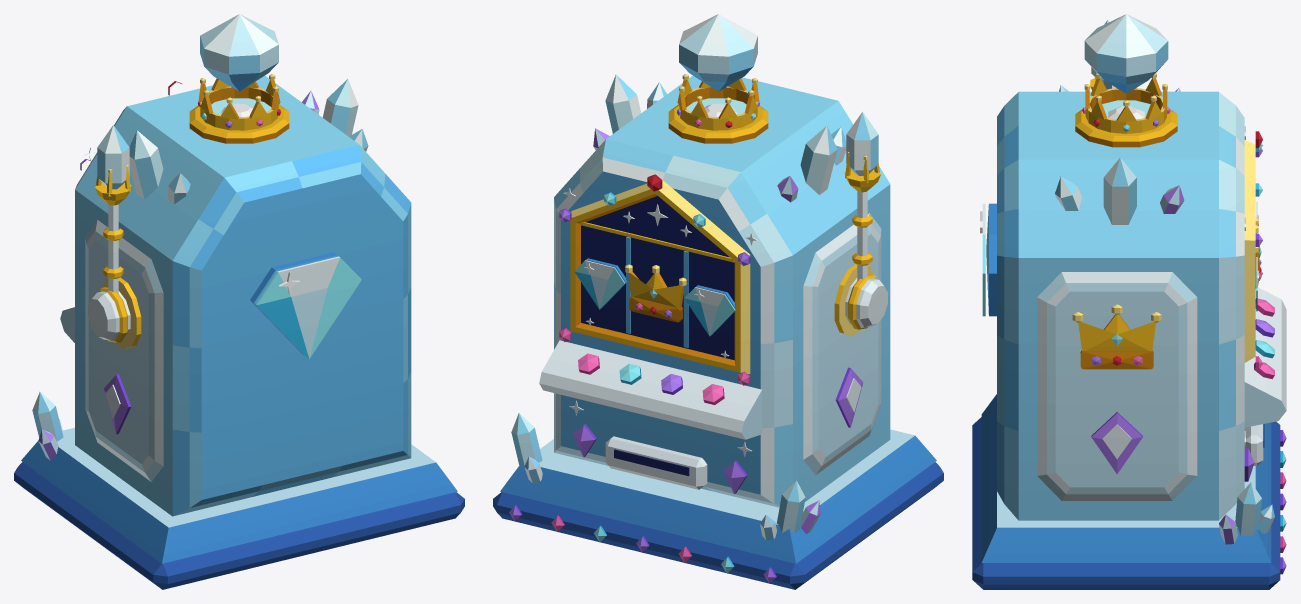
Rendered from CrystalKingdomMachine.glb.
3 views of the same model, side by side, from view 1: azimuth 30°, elevation 25°; view 2: azimuth 150°, elevation 25°; view 3: azimuth 270°, elevation 25° (orthographic). The views are drawn at different scales.
Parts seen in each view (by area): view 1: Cabinet, Base, Topper, Lever; view 2: Cabinet, Base, Screen, Topper, Lever; view 3: Cabinet, Base, Topper.
Part boxes in pixels (x1,y1,x2,y2): Cabinet: (60,75,411,516); Base: (14,392,464,589); Topper: (189,14,289,143); Lever: (88,125,131,342); Cabinet: (539,74,890,507); Base: (493,413,943,589); Screen: (574,196,735,360); Topper: (668,14,768,143); Lever: (844,112,887,329); Cabinet: (980,80,1286,520); Base: (972,394,1286,589); Topper: (1075,14,1177,147).
Bounding box in the file's own units: 6 × 9 × 5.1.
Materials: 1 (1 with a texture image).
